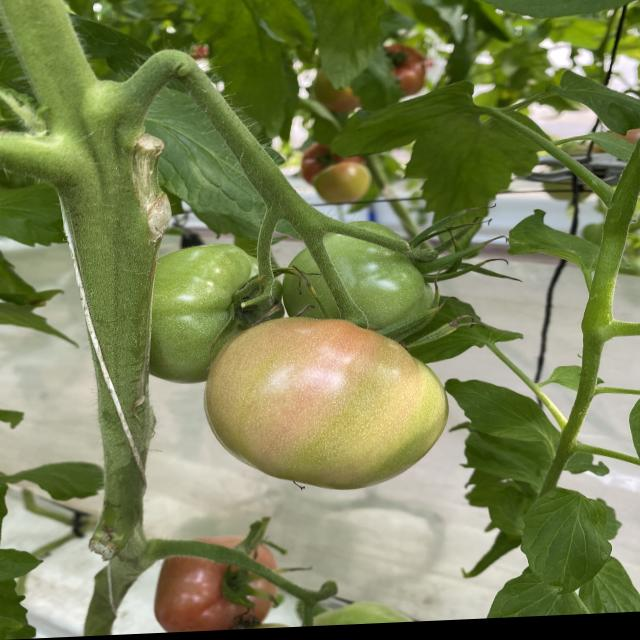yesil: (138, 222, 455, 340)
